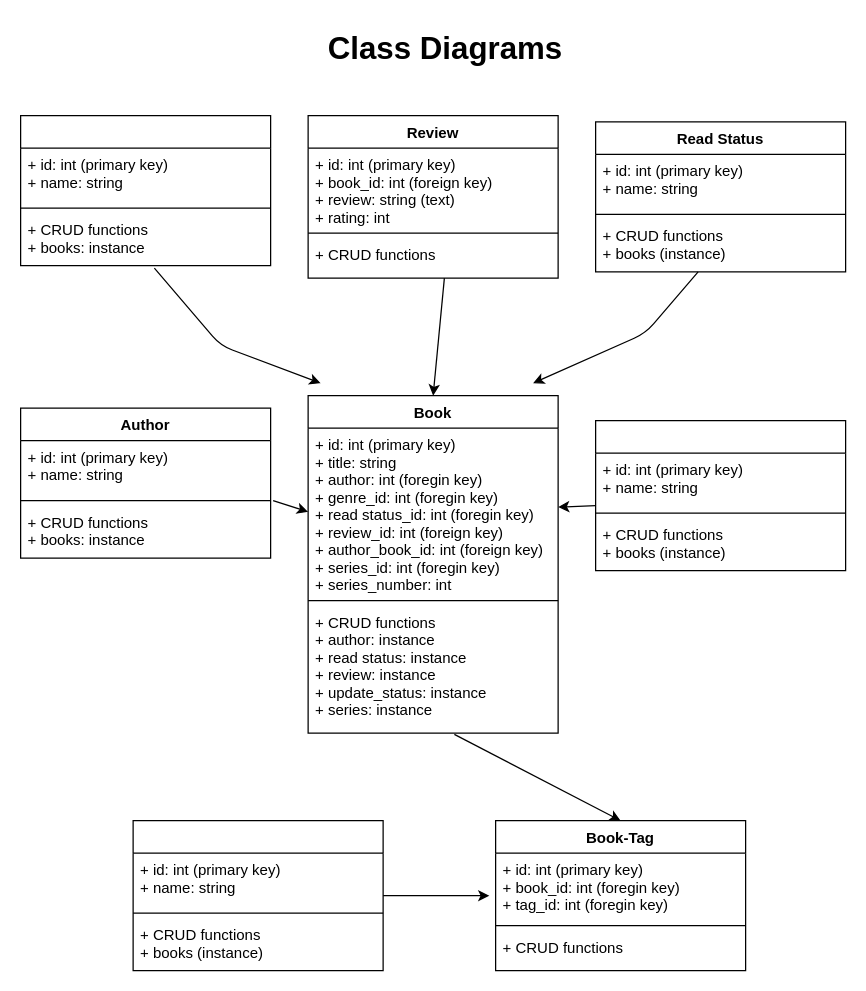
The diagram is 866 pixels wide and 991 high, and some of its shapes have lost their labels. The box of each missing label's shape, as (x1, y1, x2, y2) in pixels:
Genre: (19, 114, 271, 266)
Series: (594, 419, 846, 571)
Tag: (132, 819, 383, 971)
